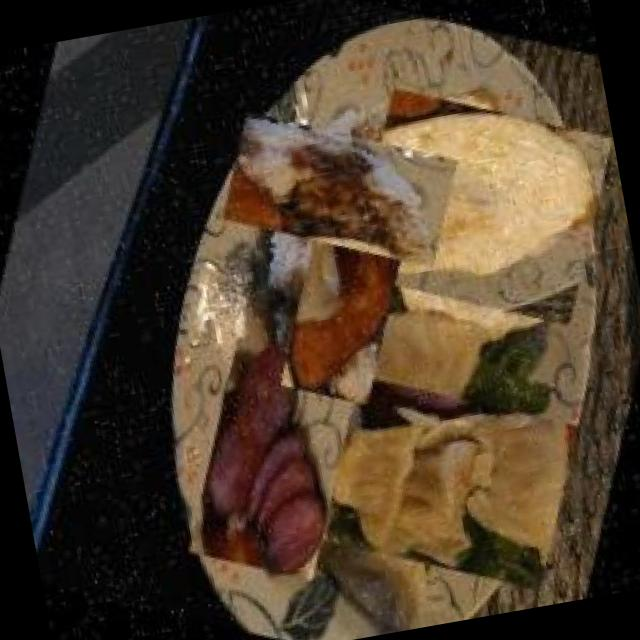chinese_sausage: (150, 316, 397, 602)
fried_dumplings: (222, 289, 587, 640)
fried_eggs: (320, 46, 640, 365)
rice: (215, 66, 462, 314)
triangle_hash_brown: (252, 215, 428, 420)
